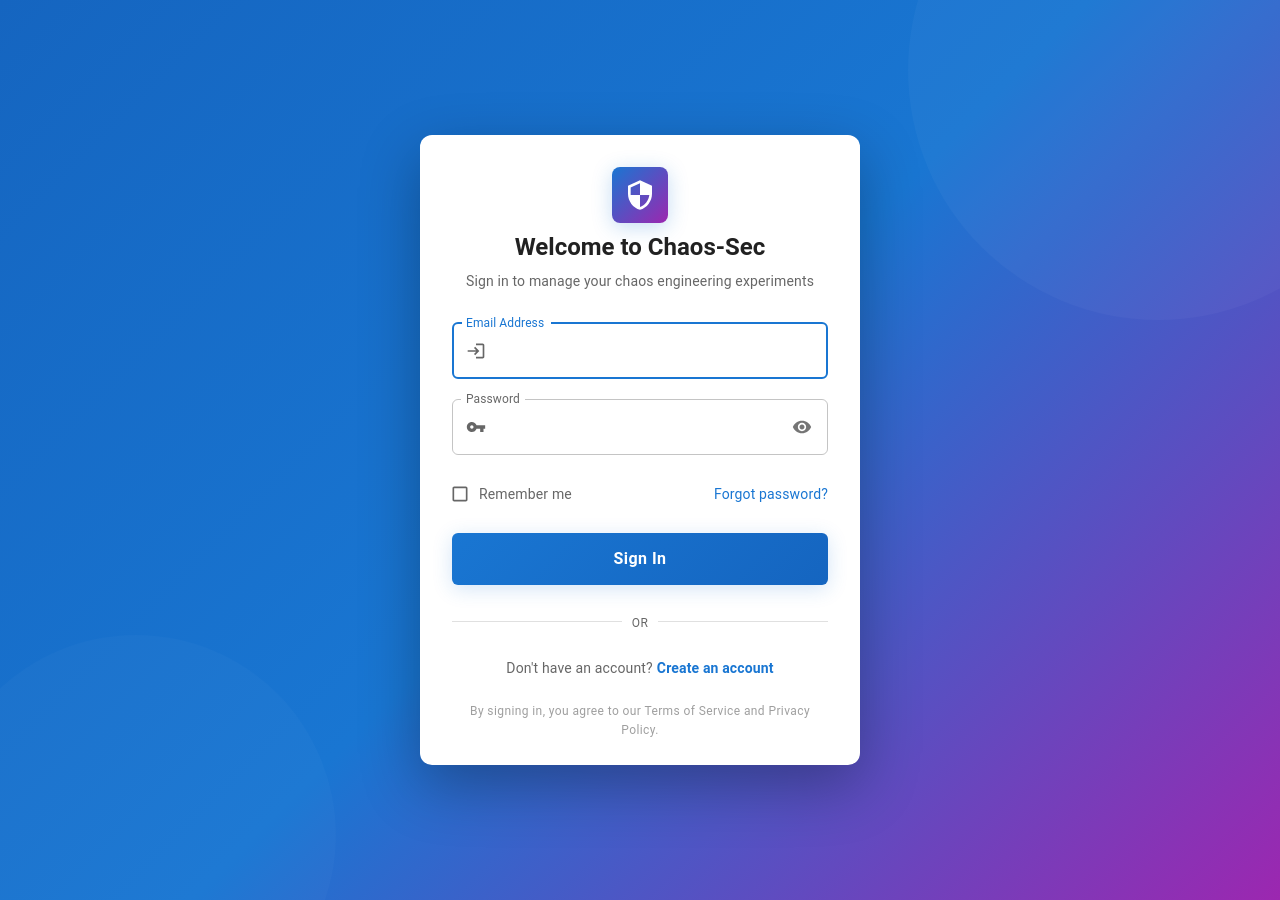
Scenario: LoginPage – failed login › displays error message when auth state has string error
Type "user@example.com" into the field labelled "Email Address".
click(661, 351); type("user@example.com")  # box 494,323 -> 828,379
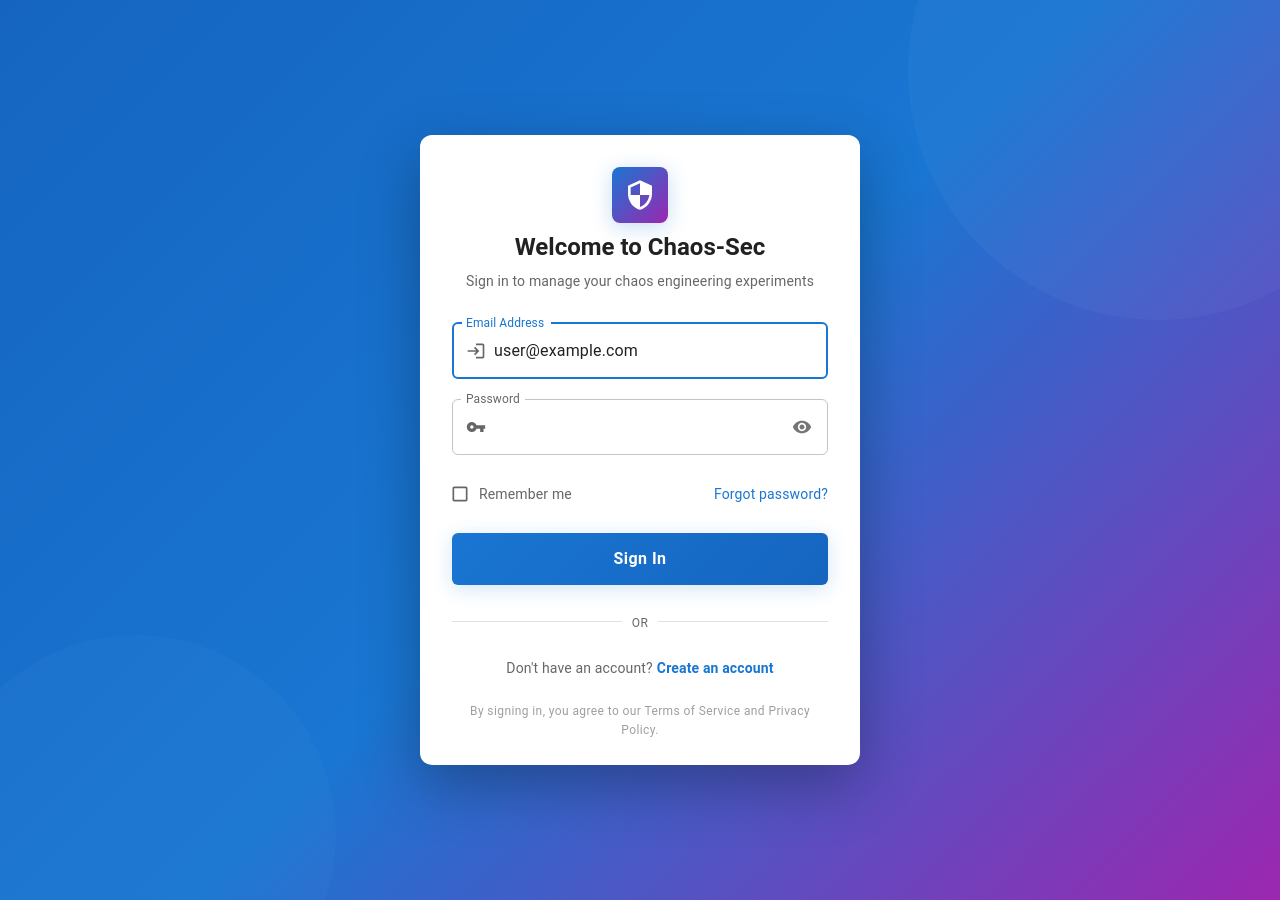
Type "password123" into the password field labelled "Password".
click(636, 427); type("password123")  # box 494,399 -> 779,455
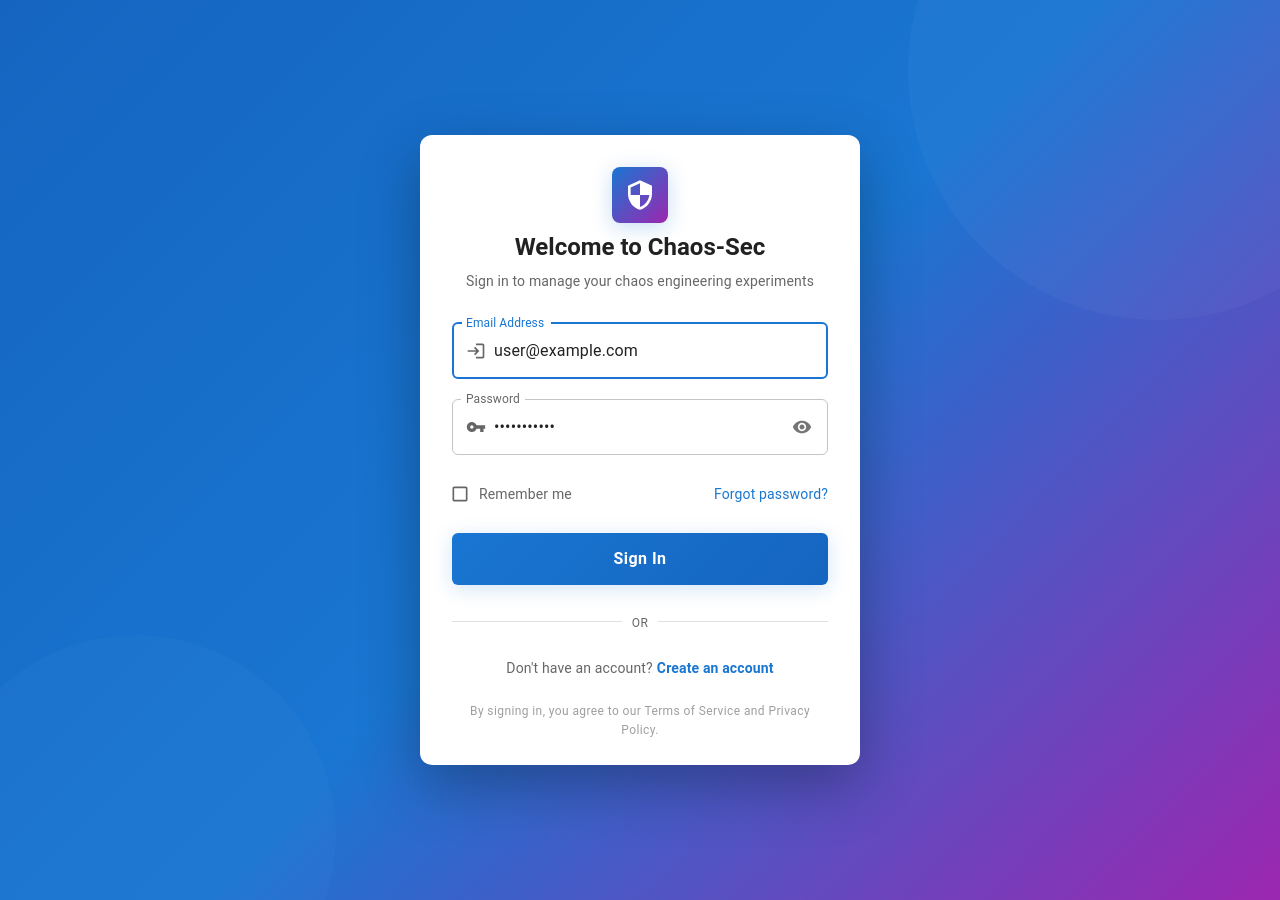
Submit the form "Email Address Password Remember me Forgot password? Sign In", box 452,323 -> 828,585
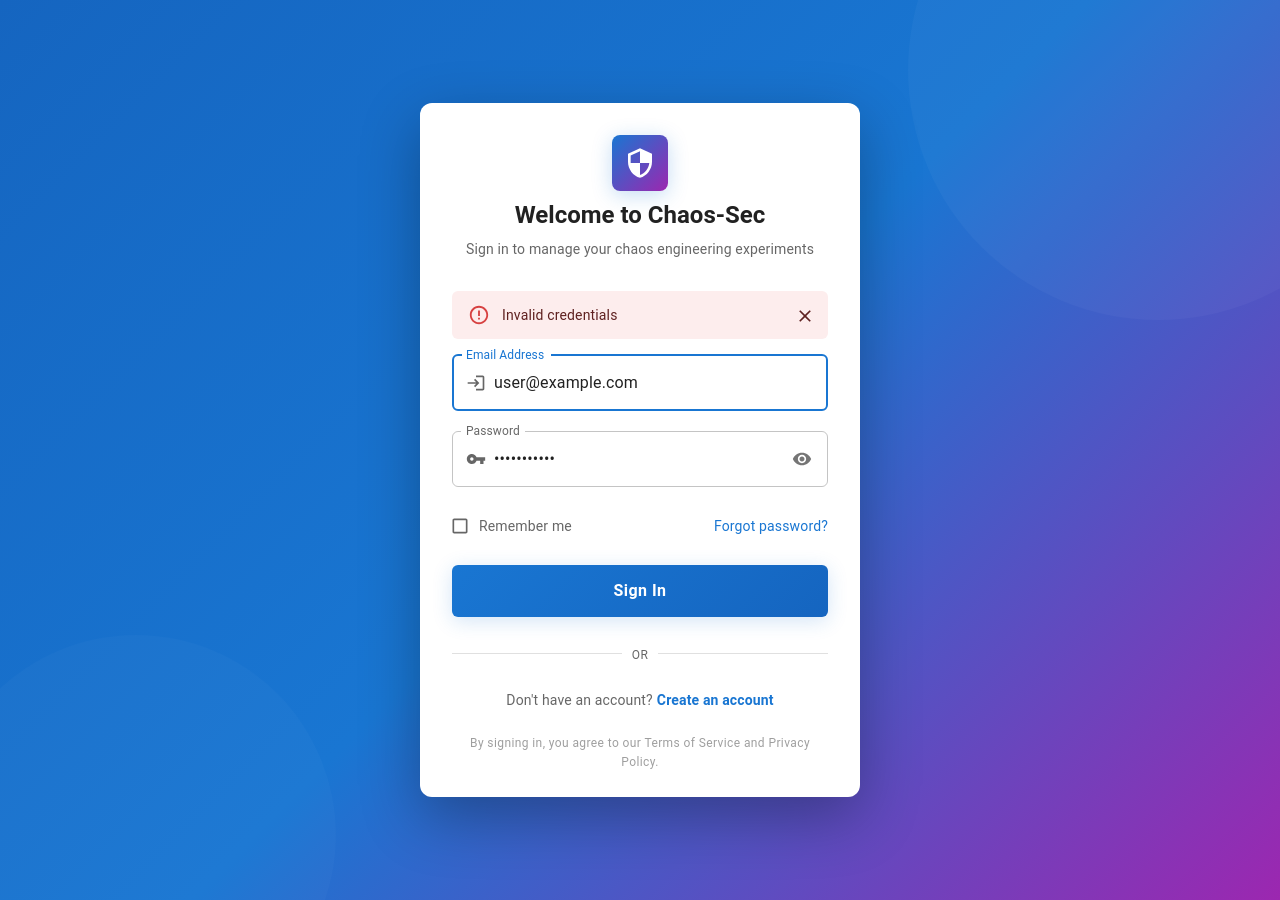
Check: the text "Invalid credentials" is shown, box 502,307 -> 618,323
